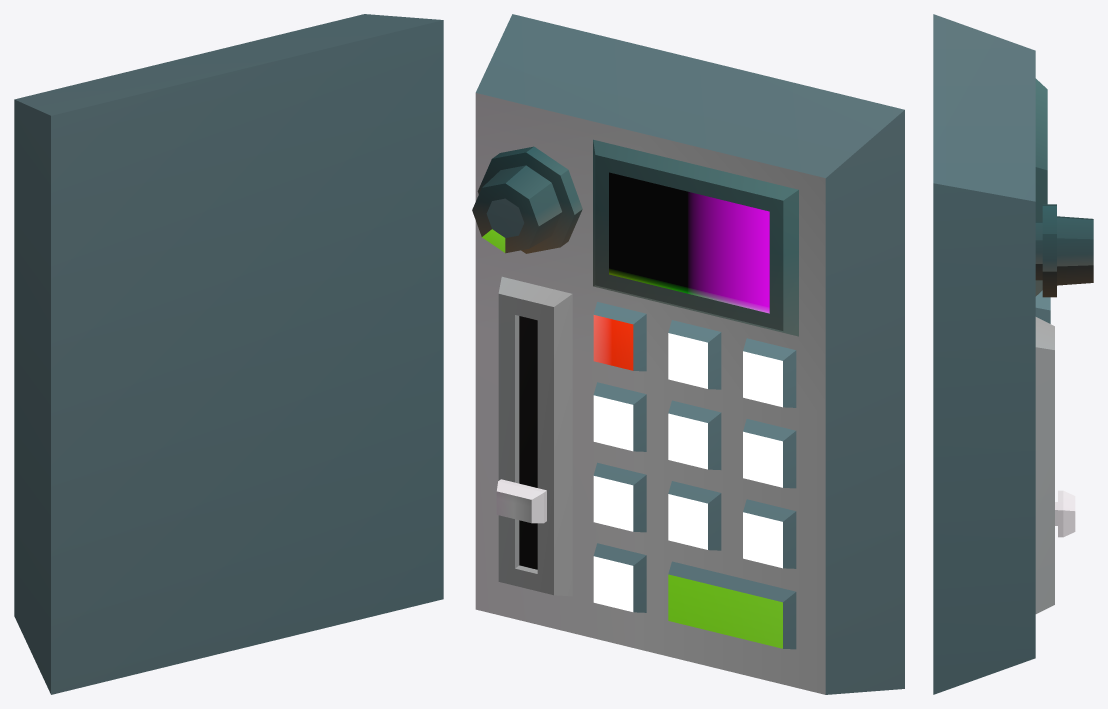
File: Door_lock.fbx
The picture shows the model from 3 angles, left to right: view 1: azimuth 30°, elevation 25°; view 2: azimuth 150°, elevation 25°; view 3: azimuth 270°, elevation 25°; orthographic projection. The views are drawn at different scales.
Parts seen in each view (by area): view 1: Door_lock; view 2: Door_lock; view 3: Door_lock.
Part boxes in pixels (x1,y1,x2,y2): Door_lock: (14, 14, 443, 694); Door_lock: (472, 14, 904, 694); Door_lock: (933, 14, 1093, 694).
Size of the model in its own units: 0.2212 by 0.0886 by 0.3118.
